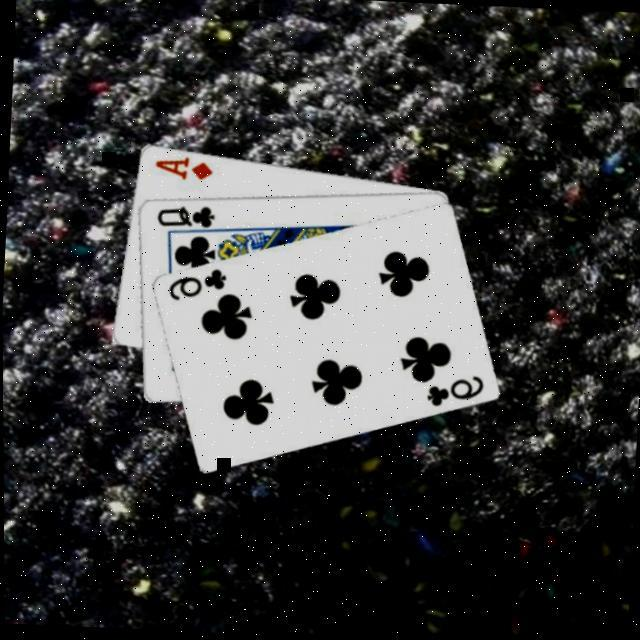6C: (163, 262, 227, 304), (421, 369, 485, 410)
AD: (151, 150, 214, 182)
QC: (153, 198, 216, 229)
